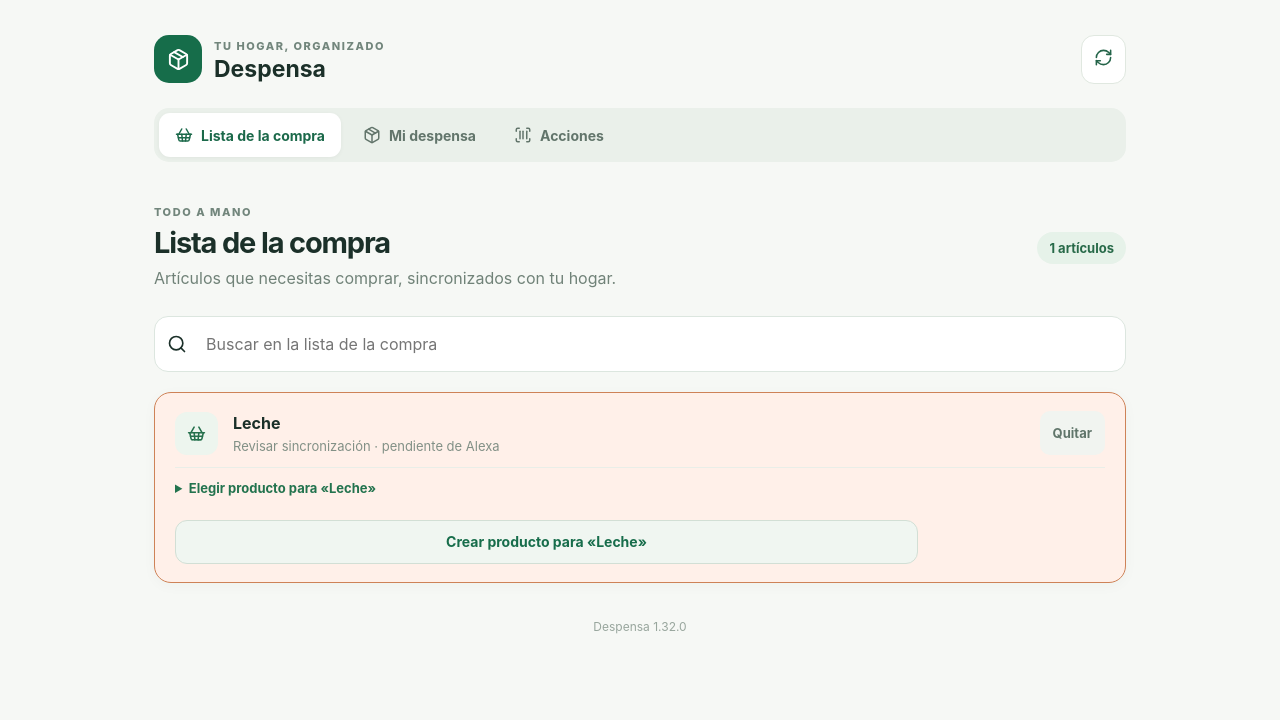
Test case: saving suggestion 7 immediately yields a row with bought/remove controls
Expected: the button with aria-label "Quitar Leche" is shown, [1040,411,1105,455]
Click the heading "Elegir producto para «Leche»": (282, 488) [189,480,376,496]
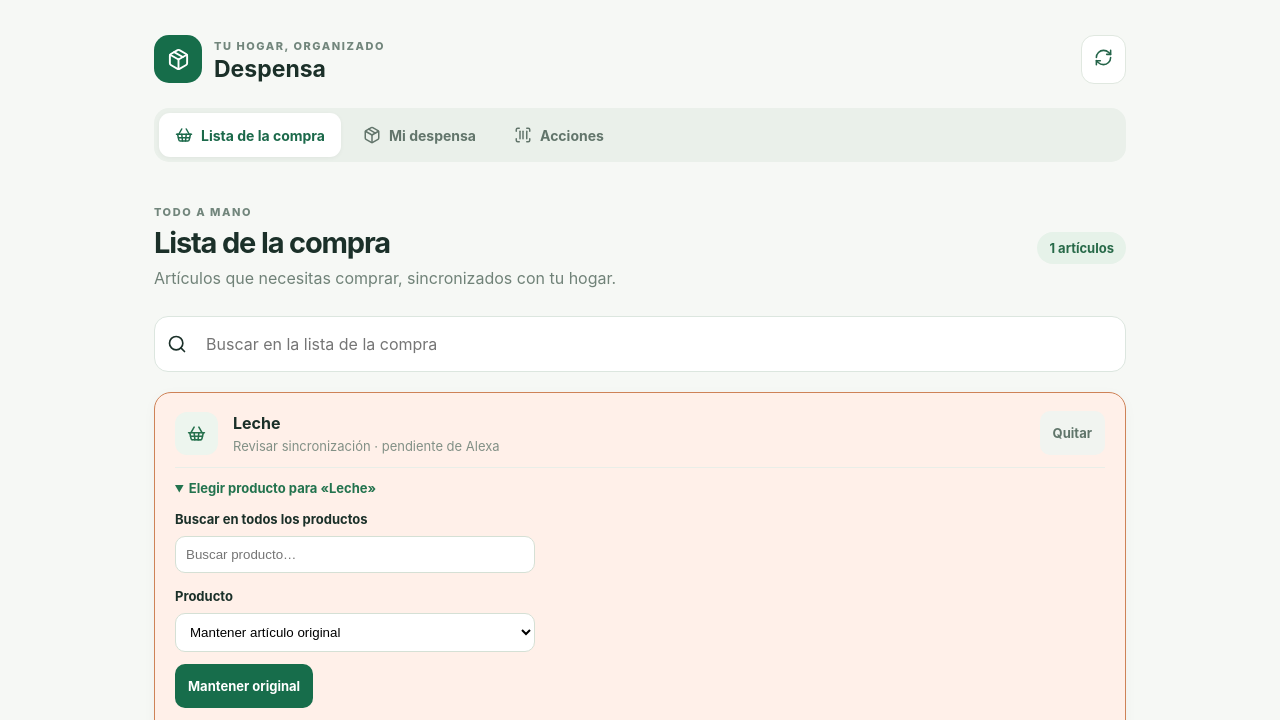
Select "Leche entera" in the dropdown labelled "Producto": (355, 632) [175,613,535,652]
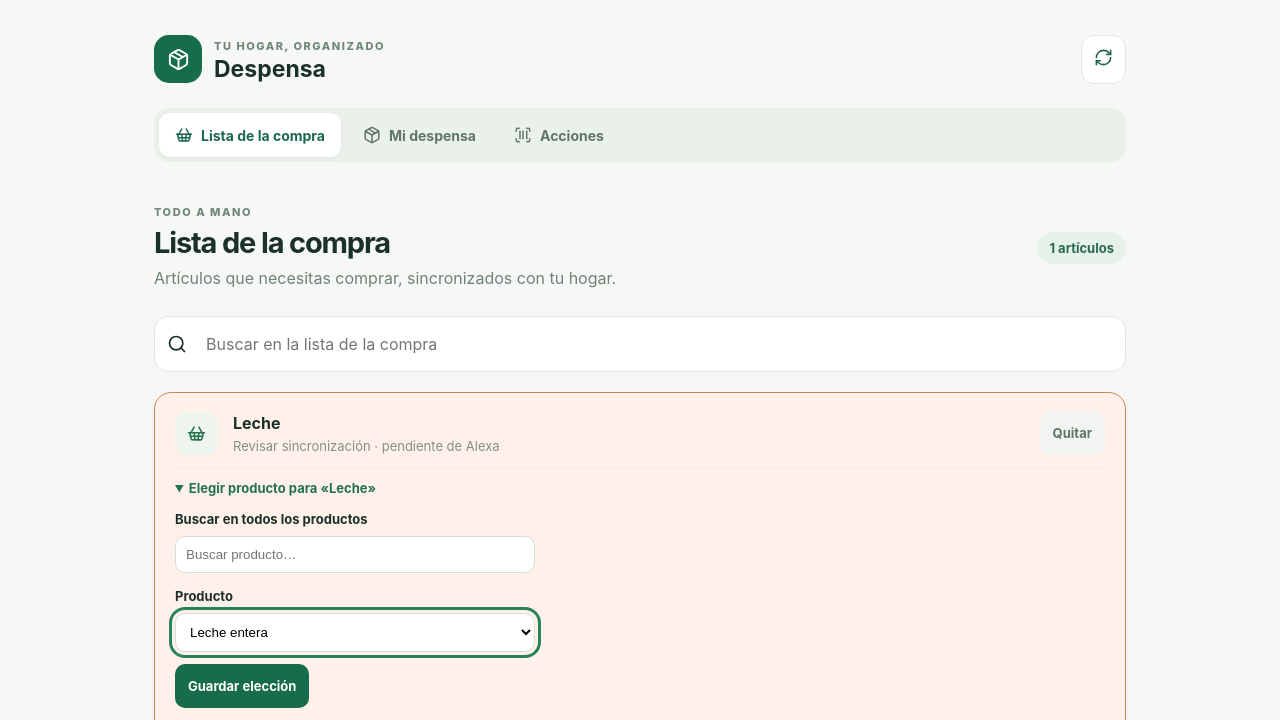
Double-click the button "Guardar elección": (242, 686) [175,664,309,708]
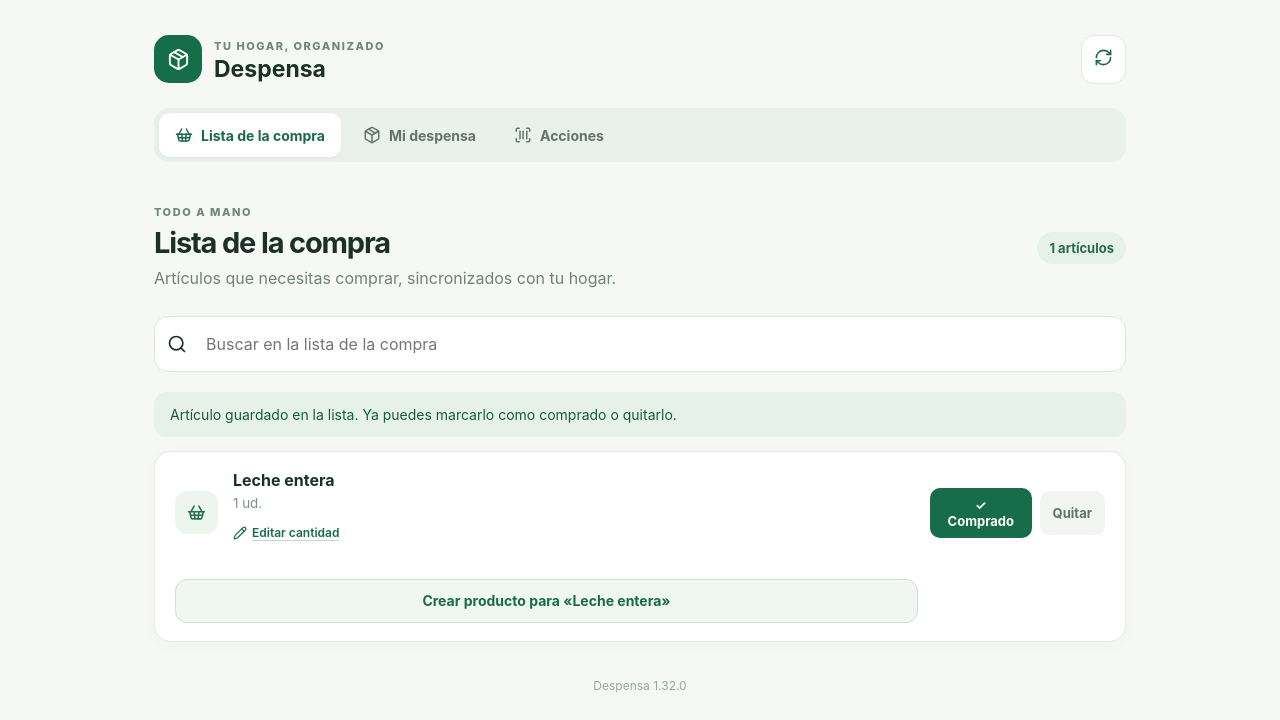
Expected: the button "✓ Comprado" is shown, [930,488,1032,538]
Expected: the button with aria-label "Quitar Leche entera" is shown, [1040,490,1105,534]
